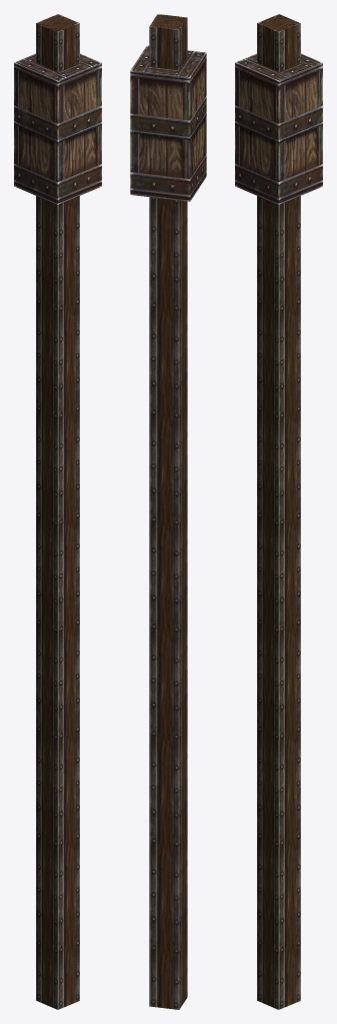
The model's file is loc1_04.glb.
3 renders of one model, left to right at view 1: azimuth 90°, elevation 25°; view 2: azimuth 210°, elevation 25°; view 3: azimuth 270°, elevation 25°, orthographic.
Parts seen in each view (by area): view 1: loc1_04; view 2: loc1_04; view 3: loc1_04.
Boxes of the visible parts, x1,y1,x2,y2 form: loc1_04: (14, 14, 101, 1009); loc1_04: (130, 14, 206, 1009); loc1_04: (235, 14, 322, 1009).
Bounding box in the file's own units: 1.41 × 17.38 × 1.41.
Materials: 1 (1 with a texture image).
